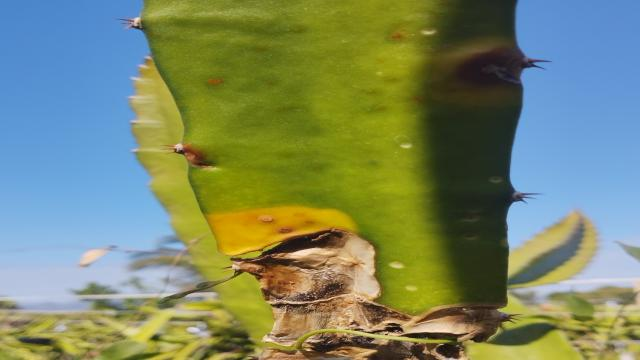stemcanker: (386, 21, 412, 42), (253, 210, 278, 227), (204, 73, 226, 88), (296, 216, 316, 230)
